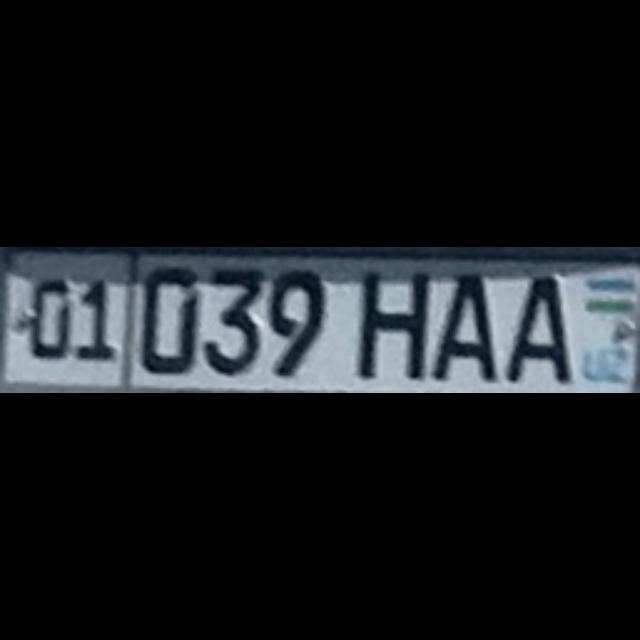0: (140, 264, 197, 374), (28, 280, 70, 356)
1: (75, 277, 112, 359)
3: (199, 266, 259, 374)
9: (266, 266, 324, 374)
A: (504, 274, 570, 382), (431, 272, 493, 378)
H: (356, 269, 426, 379)
